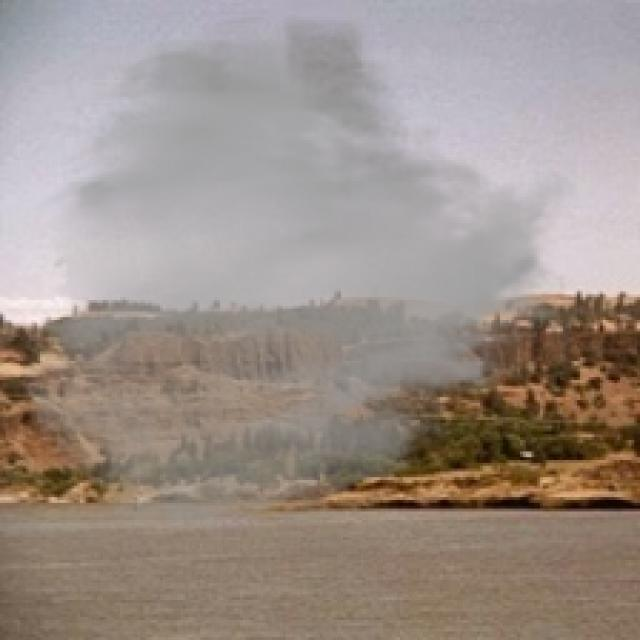Smoke: (17, 9, 580, 538)
